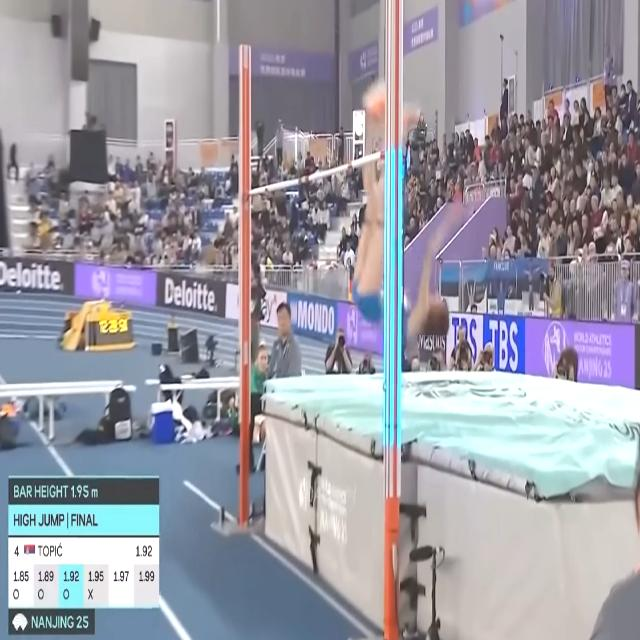land: (352, 76, 462, 344)
